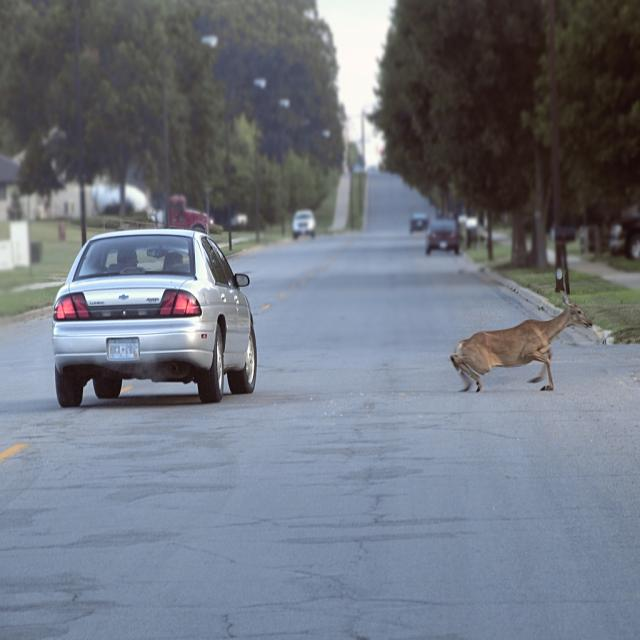car: (50, 224, 258, 404), (424, 216, 458, 254), (290, 208, 316, 237)
